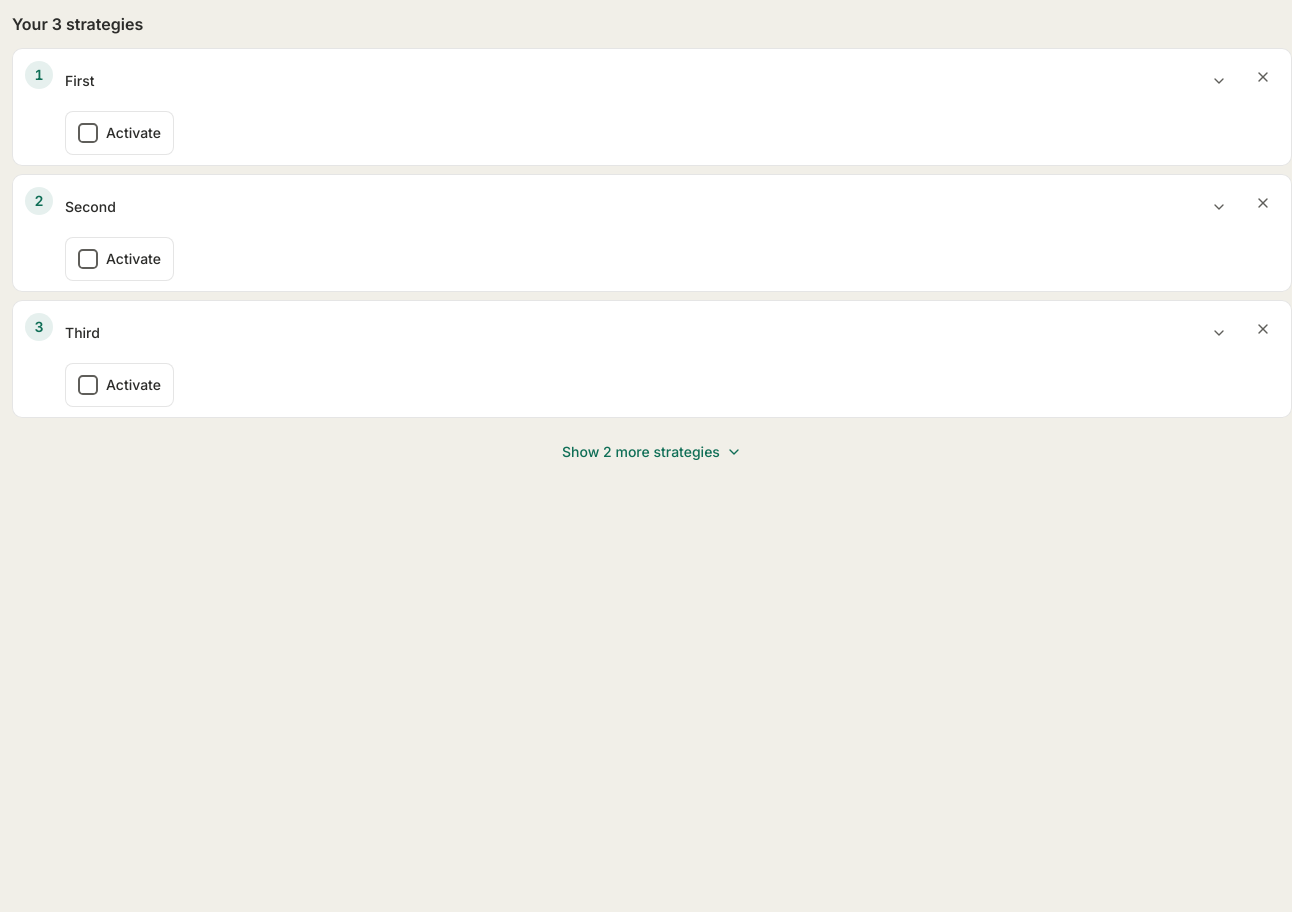
it: StrategyList lead + show more (item 11) › puts the rest under a collapsed 'Show more' disclosure that counts them (never dropped)
The width and height of the screenshot is (1292, 912).
Expanding reveals them and flips the label to "Show fewer".
Click the text "Show 2 more strategies" at (641, 452), box [562,442,720,462]
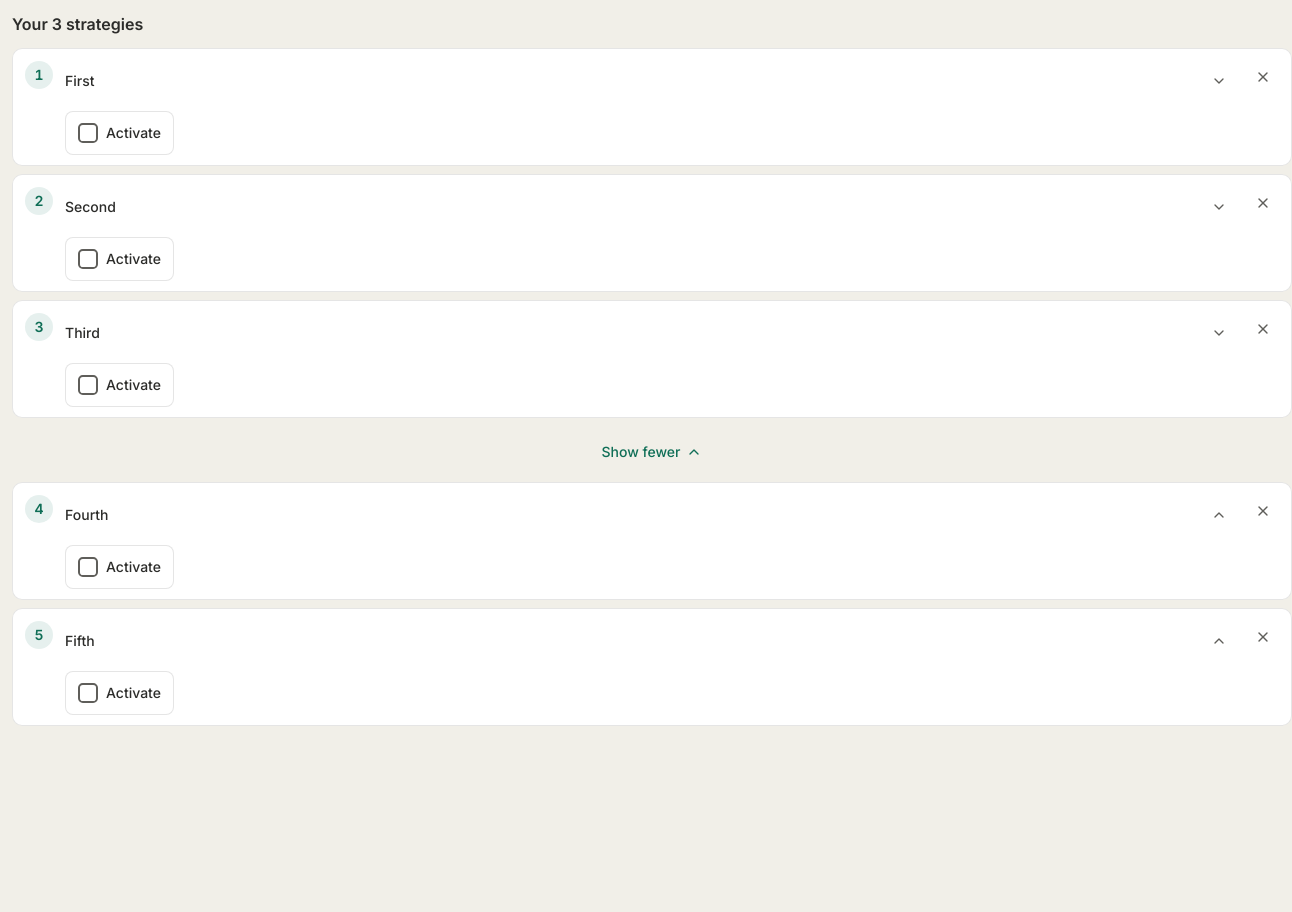
Check: the text "Show fewer" is shown, box [602,442,680,462]
